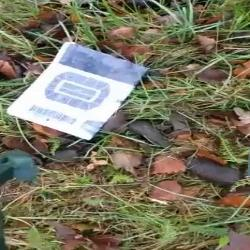Restaffald: (7, 41, 150, 140)
